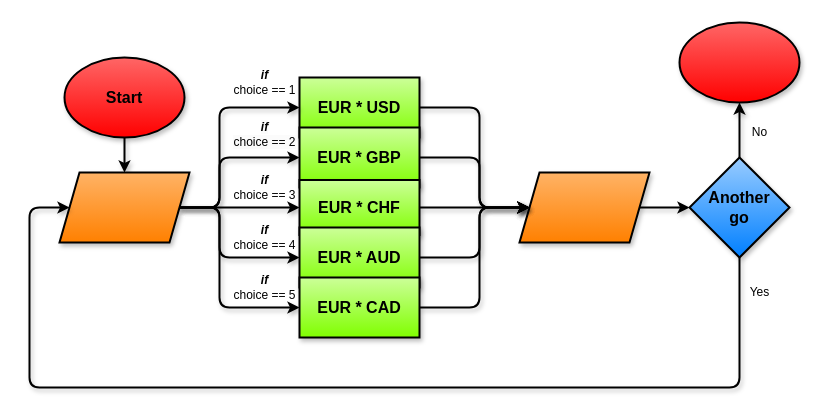
The diagram is 823 pixels wide and 420 high, and some of its shapes have lost their labels. The centre of each missing label's shape, as x and y in pixels:
Choose a currency: (x=125, y=208)
Display result: (x=585, y=208)
Terminate: (x=740, y=63)
